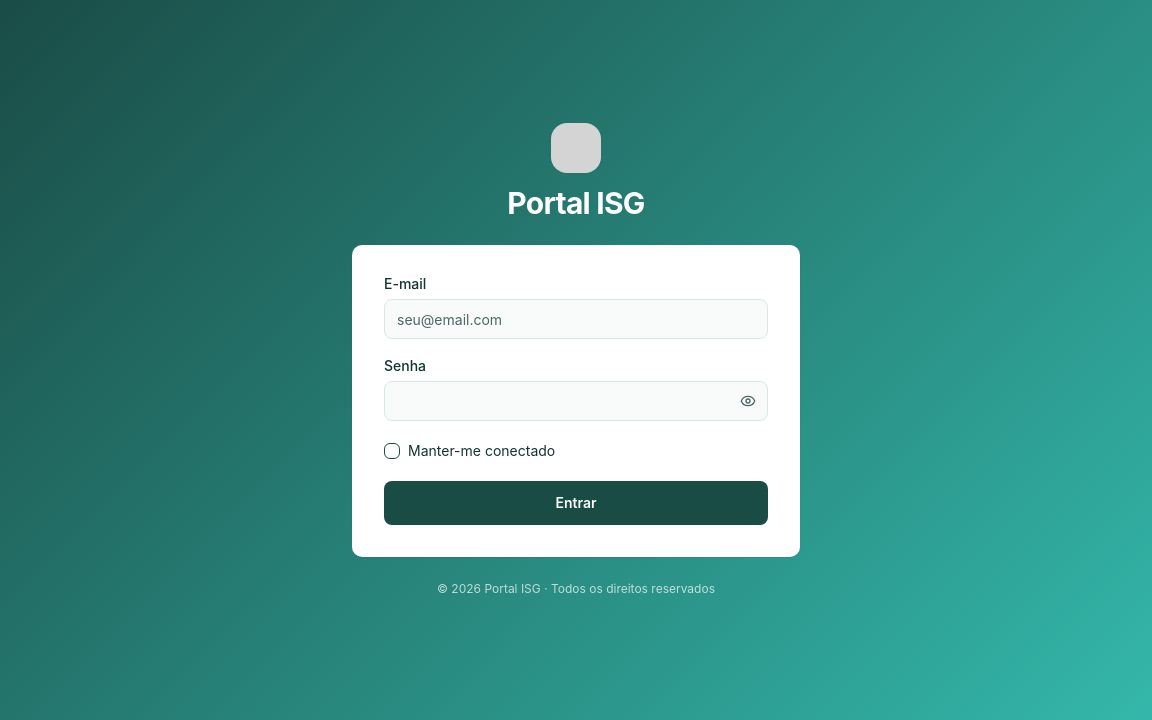
it: Login › deve exibir mensagem de erro quando as credenciais são inválidas
Type "errado@clinica.com" into the field labelled "E-mail" at point(576, 319), box [384, 299, 768, 339]
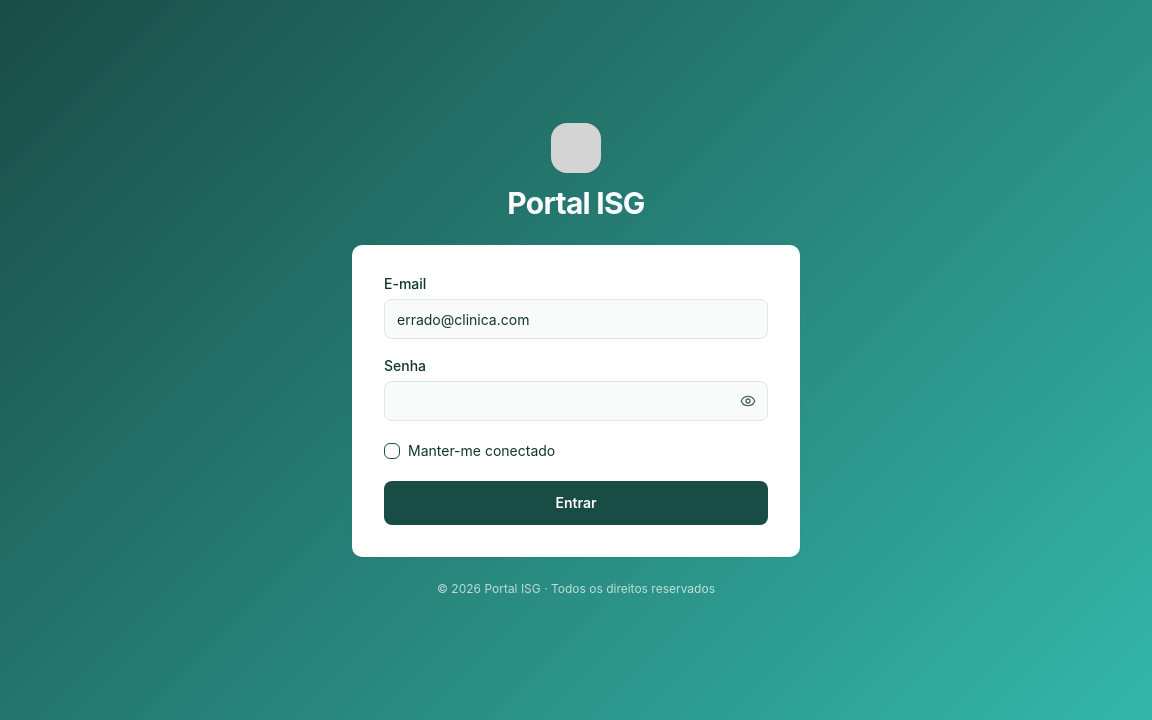
Type "senhaErrada" into the password field labelled "Senha" at point(576, 401), box [384, 381, 768, 421]
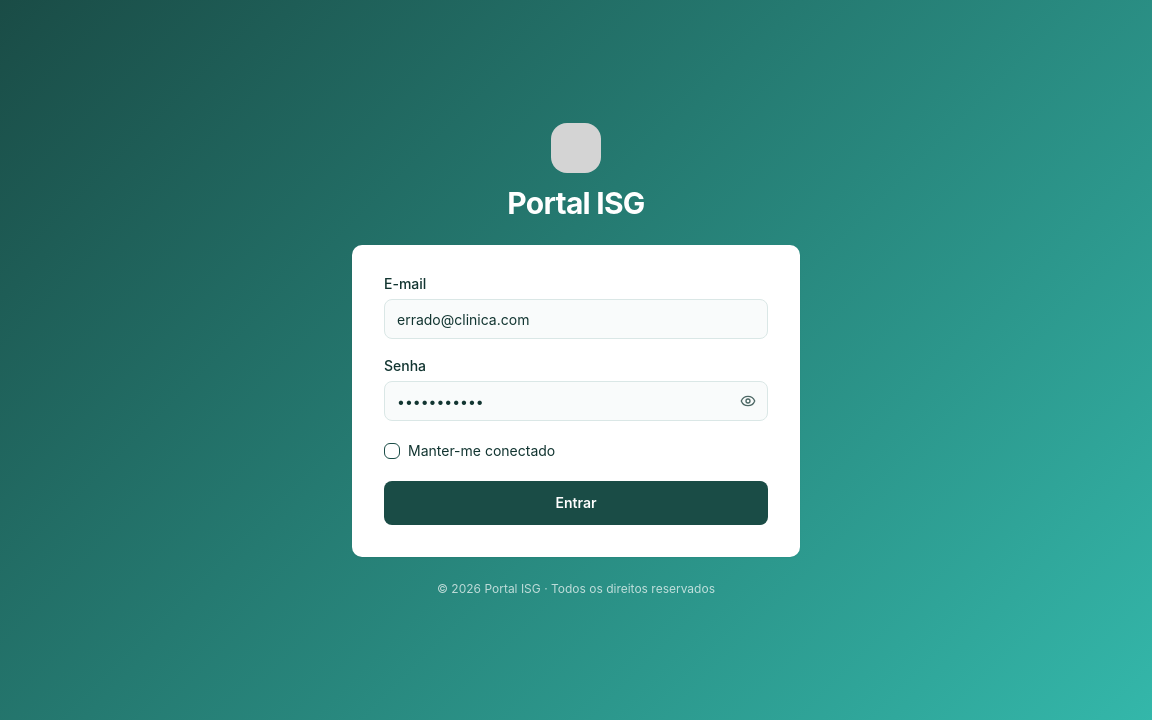
Click the button "Entrar" at point(576, 503), box [384, 481, 768, 525]
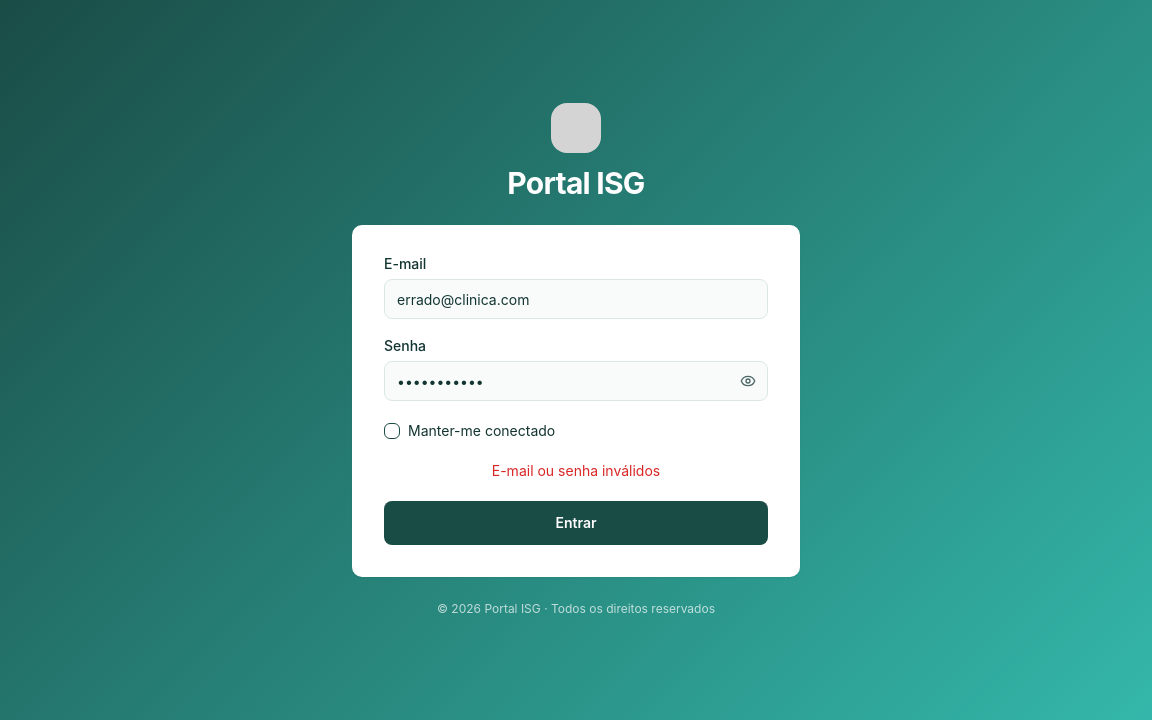
Check: the text "E-mail ou senha inválidos" is shown, box [492, 462, 660, 479]
